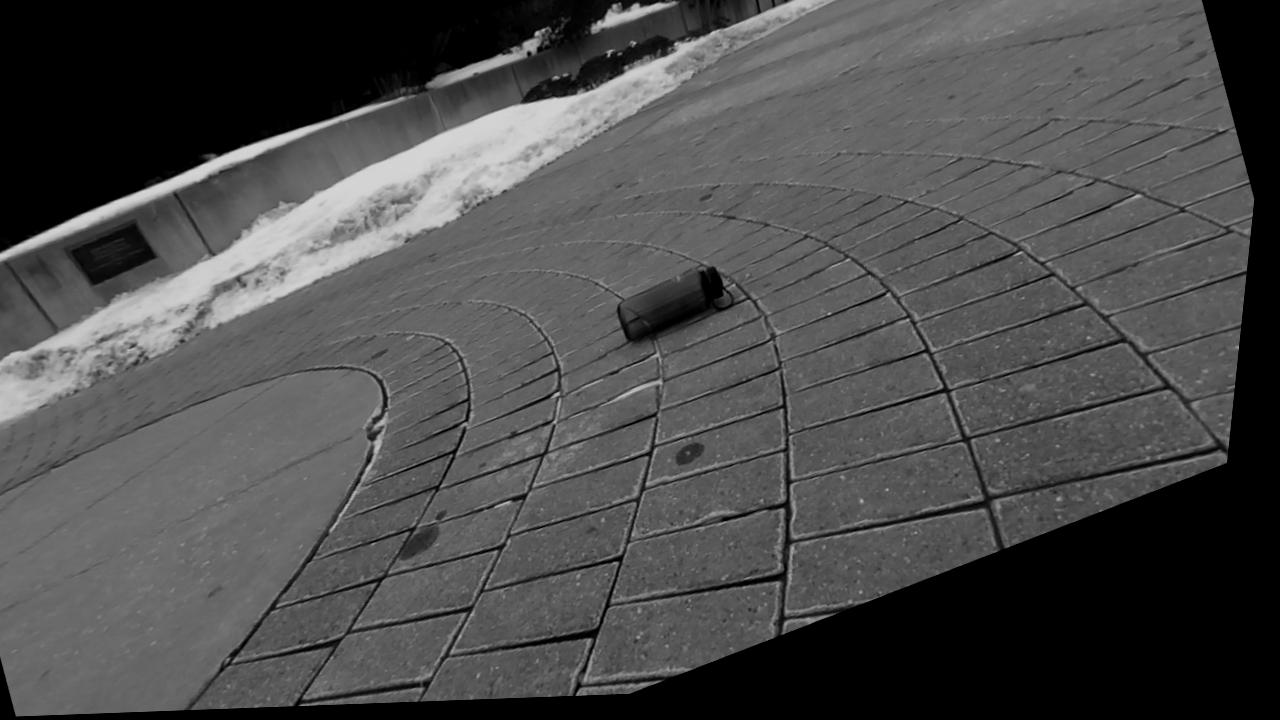bottle: (616, 266, 732, 341)
